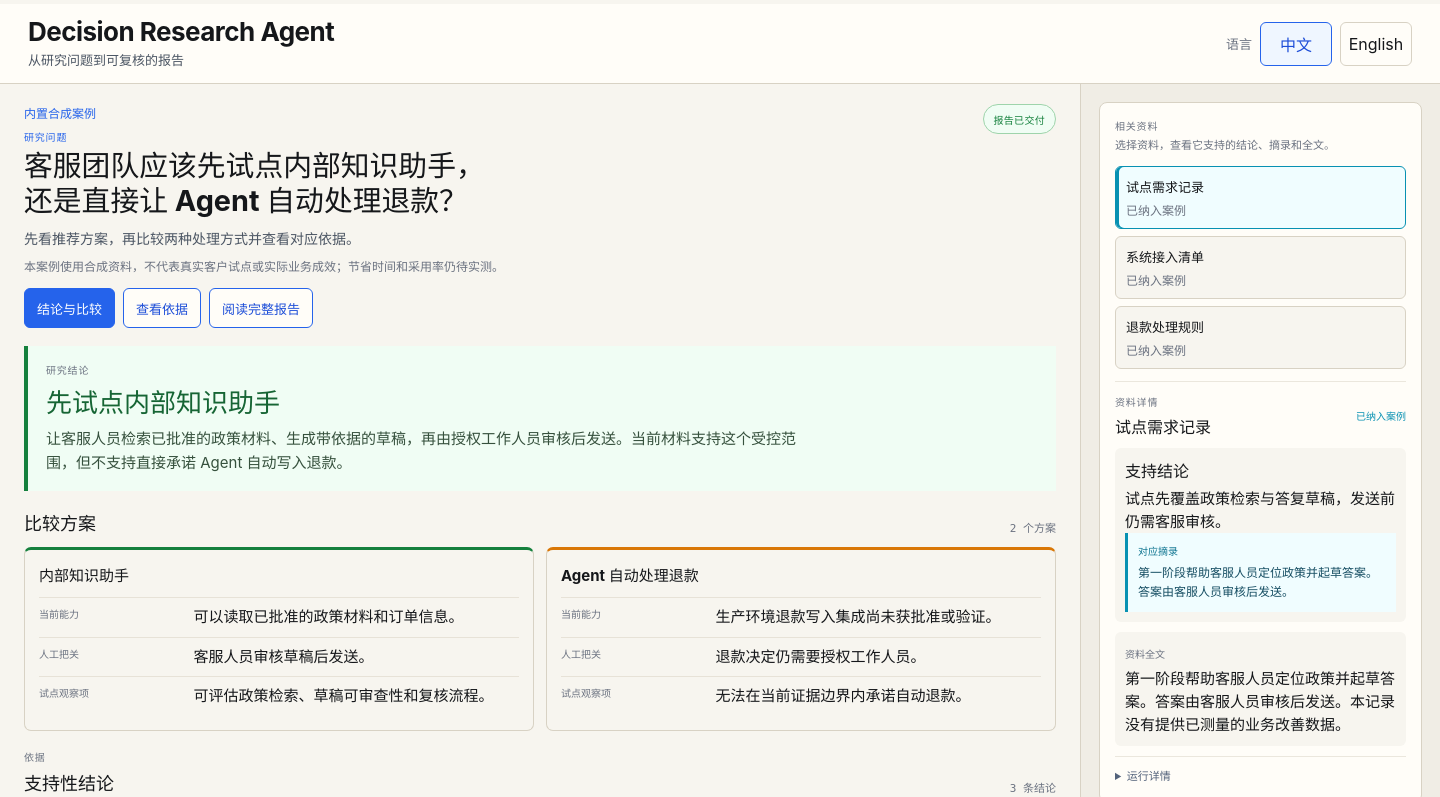
Test case: Decision Research Agent demo console › defaults to Chinese and can switch to English
Expected: the heading "Decision Research Agent" is shown, [28,18,334,47]
Expected: the text "从研究问题到可复核的报告" is shown, [28,52,184,68]
Click the button "English". click: (1376,44)
box: [1340,22,1412,66]
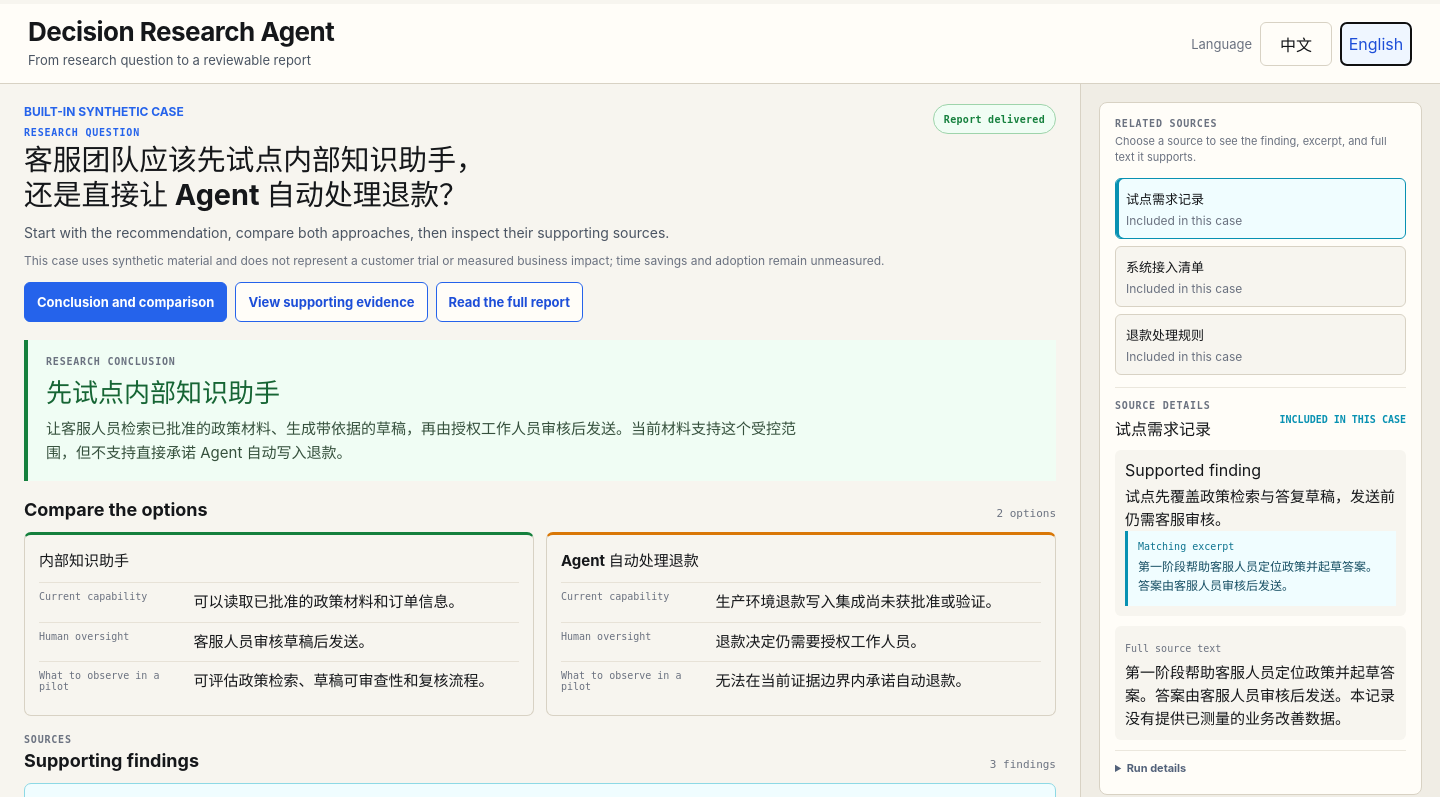
Result: the text "From research question to a reviewable report" is shown at [28,51,334,70]
Result: the navigation bar named "Report navigation" is shown at [24,282,583,322]
Result: the button "View supporting evidence" is shown at [235,282,428,322]
